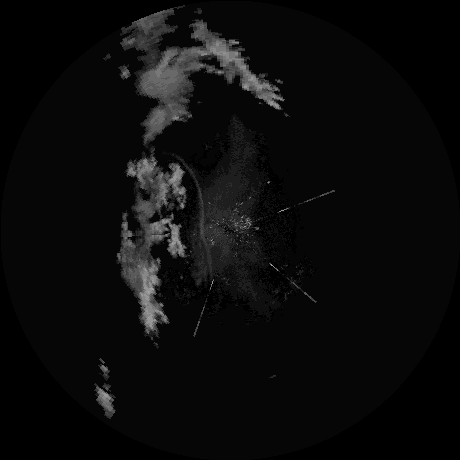frontgust: (187, 169, 215, 279)
